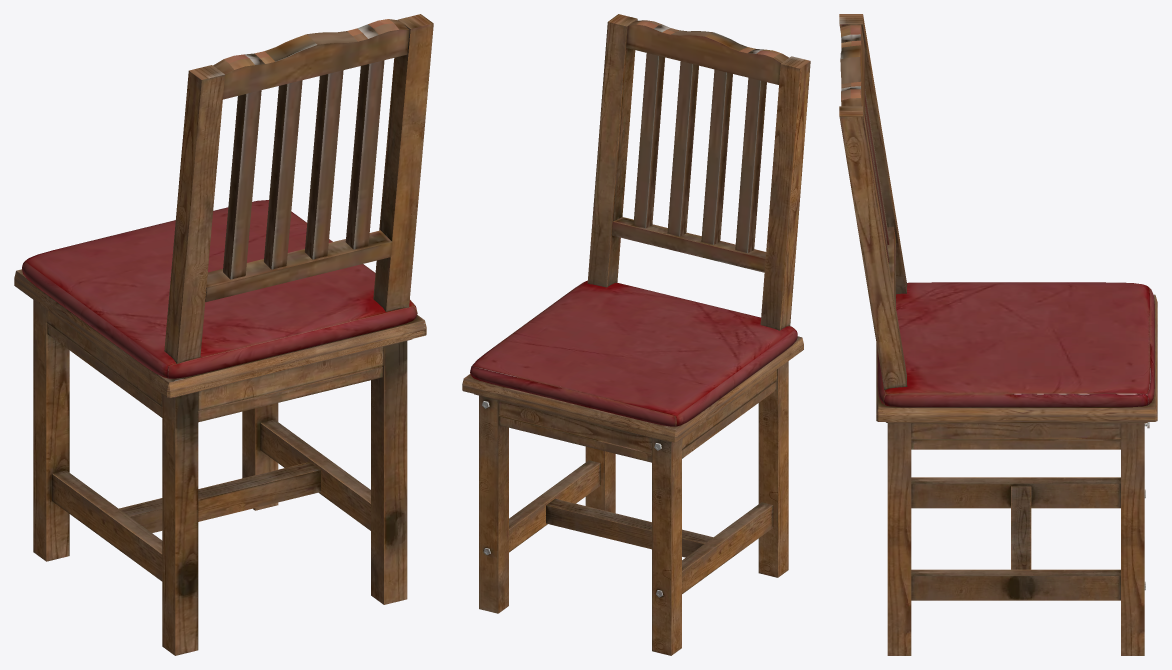
The model's file is chair.glb.
The picture shows the model from 3 angles, left to right: view 1: azimuth 30°, elevation 25°; view 2: azimuth 150°, elevation 25°; view 3: azimuth 270°, elevation 25°; orthographic projection. The views are drawn at different scales.
Parts seen in each view (by area): view 1: Untitled; view 2: Untitled; view 3: Untitled.
Boxes of the visible parts, bbox=[...] form: Untitled: bbox=[14, 14, 433, 655]; Untitled: bbox=[462, 14, 810, 655]; Untitled: bbox=[839, 14, 1157, 655].
Bounding box in the file's own units: 1.6 × 3.53 × 1.86.
1 material, 1 textured.
